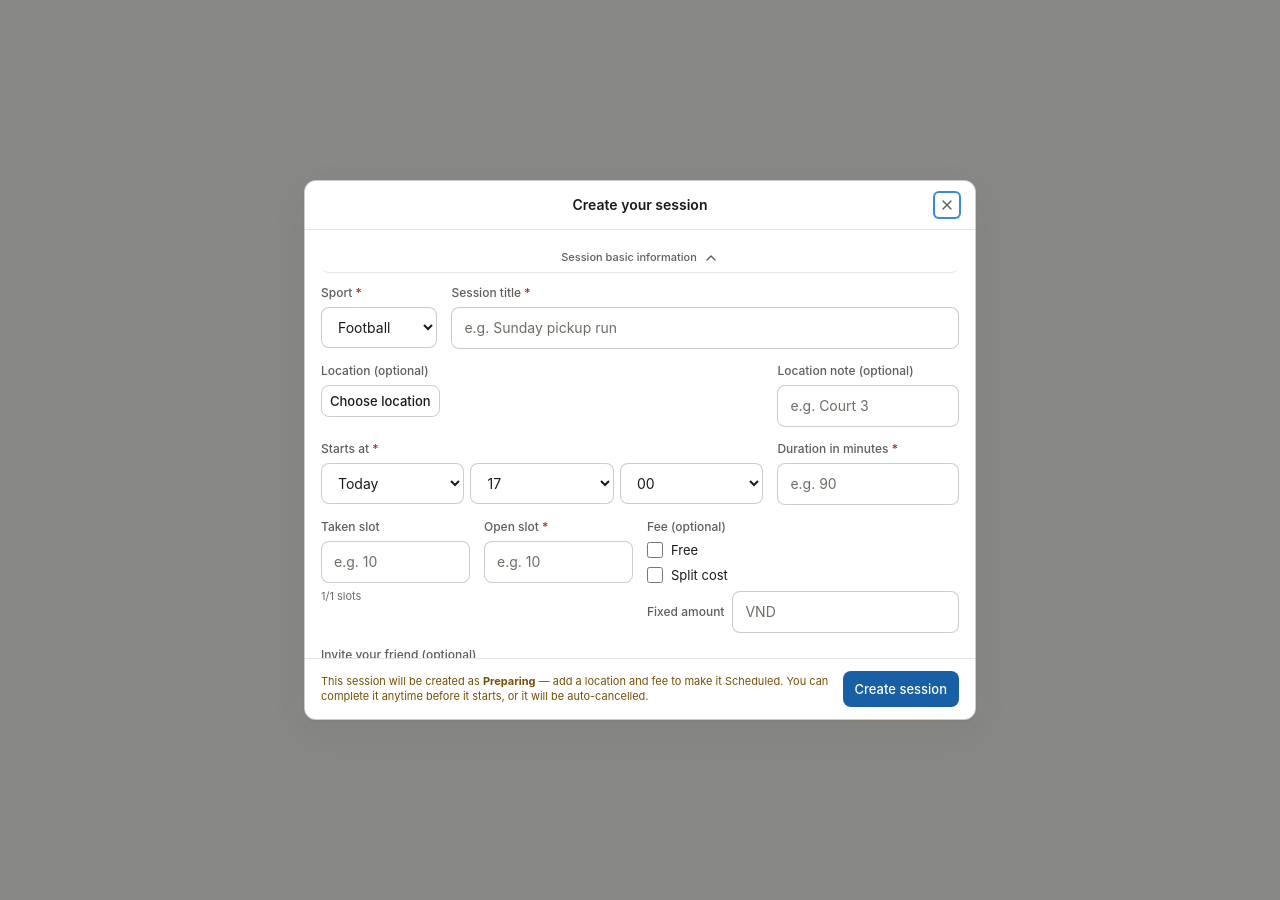
Test case: CreateSessionModal › every numeric field rejects a pasted non-numeric value but accepts a pasted numeric one
Click the number field labelled "Duration in minutes *". click: [868, 484]
box: [777,463,959,505]
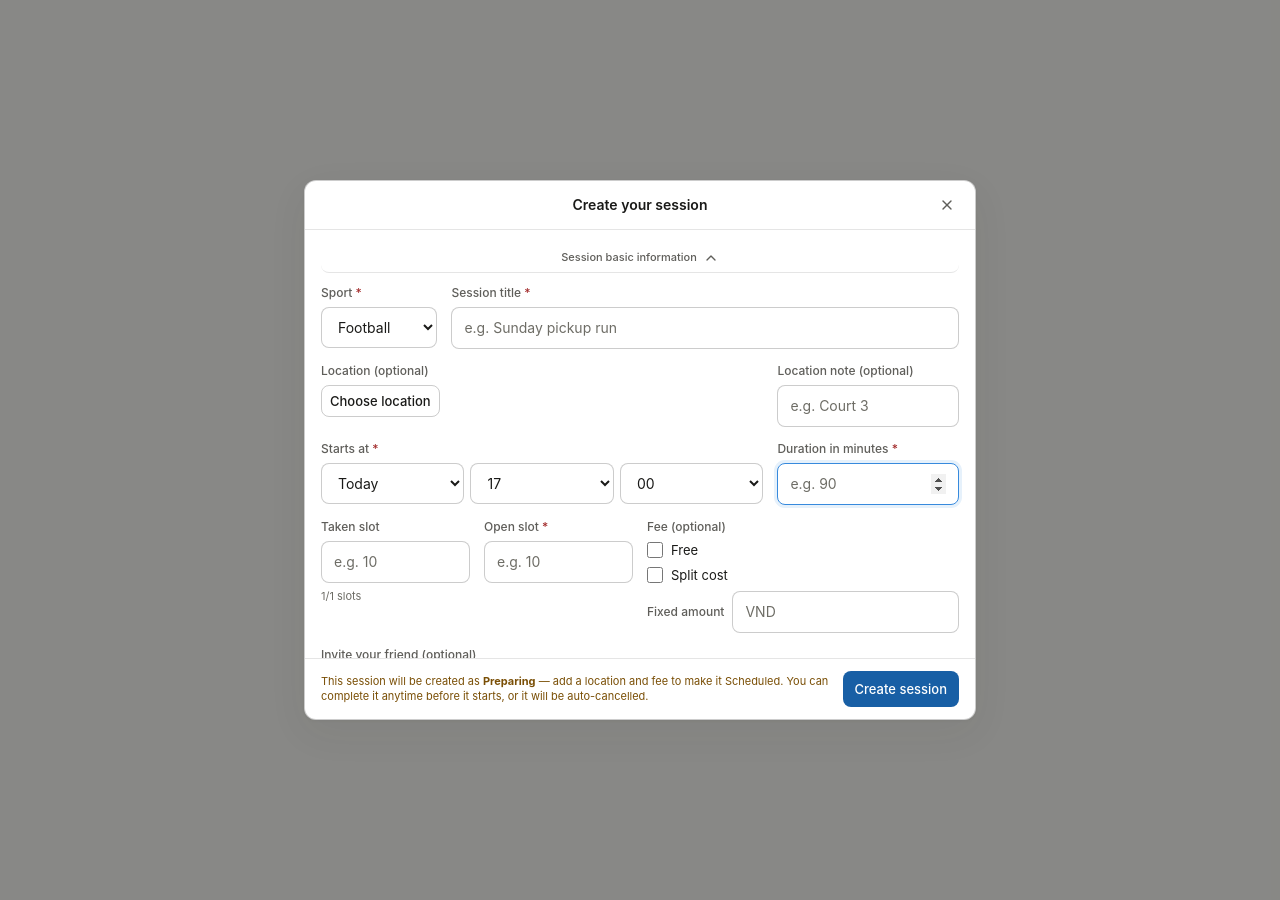
Type keys "90 mins"
Expected: the number field labelled "Duration in minutes *" is not empty, [777,463,959,505]
Type keys "90"
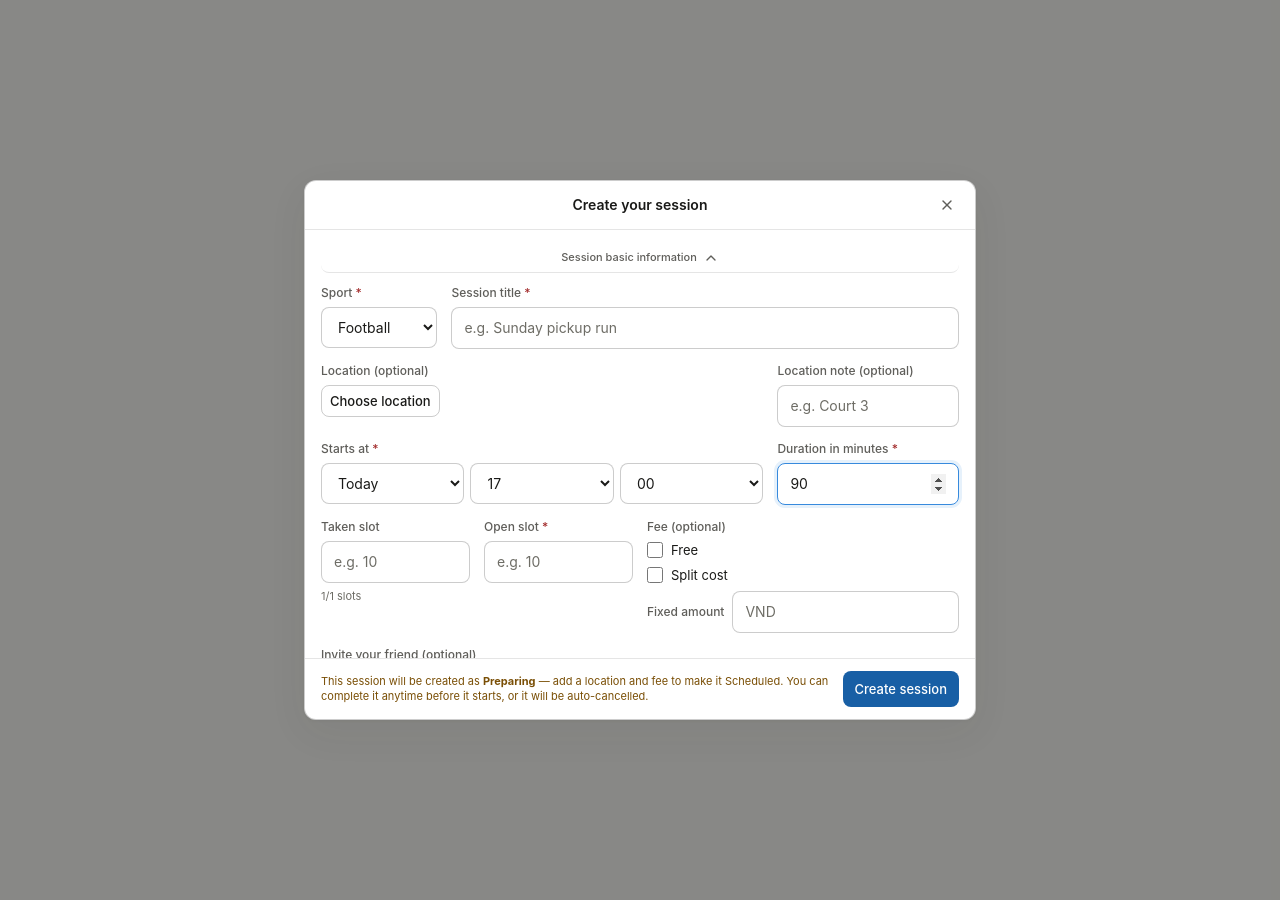
Now the number field labelled "Duration in minutes *" holds "90", box [777,463,959,505]
